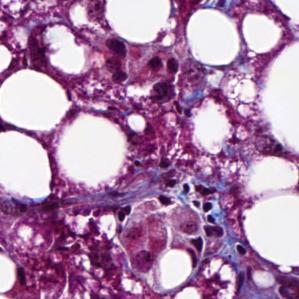inflammation: (158, 176, 221, 215)
